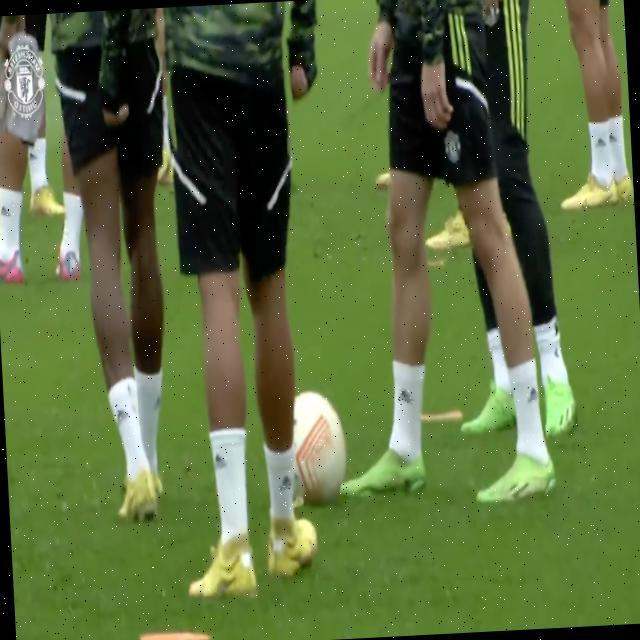Adidas: (398, 385, 415, 407), (114, 404, 130, 427), (278, 469, 293, 493), (212, 447, 228, 469), (525, 383, 539, 404)
